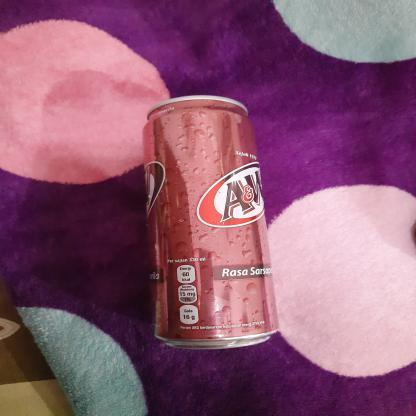can: (136, 92, 287, 358)
